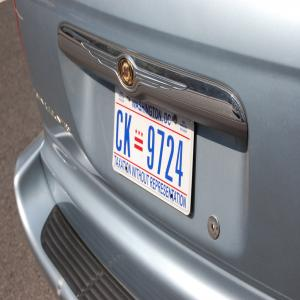Vehicle-registration-plate: (108, 99, 202, 224)
